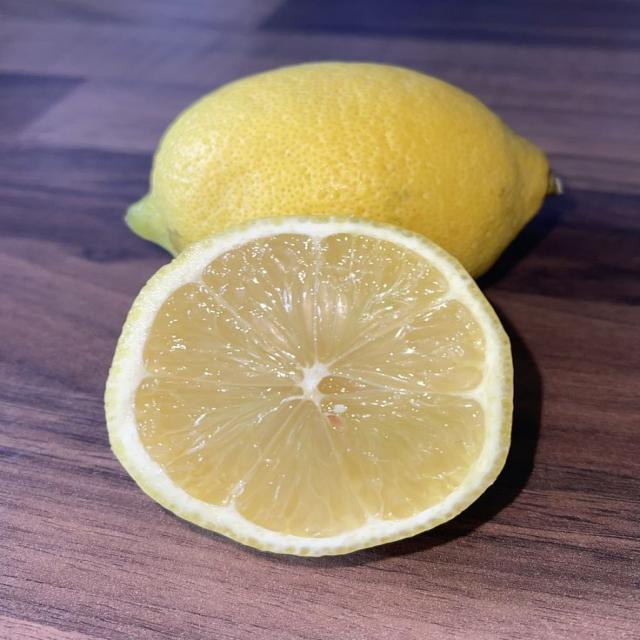lemon: (107, 217, 512, 555), (127, 63, 548, 276)
